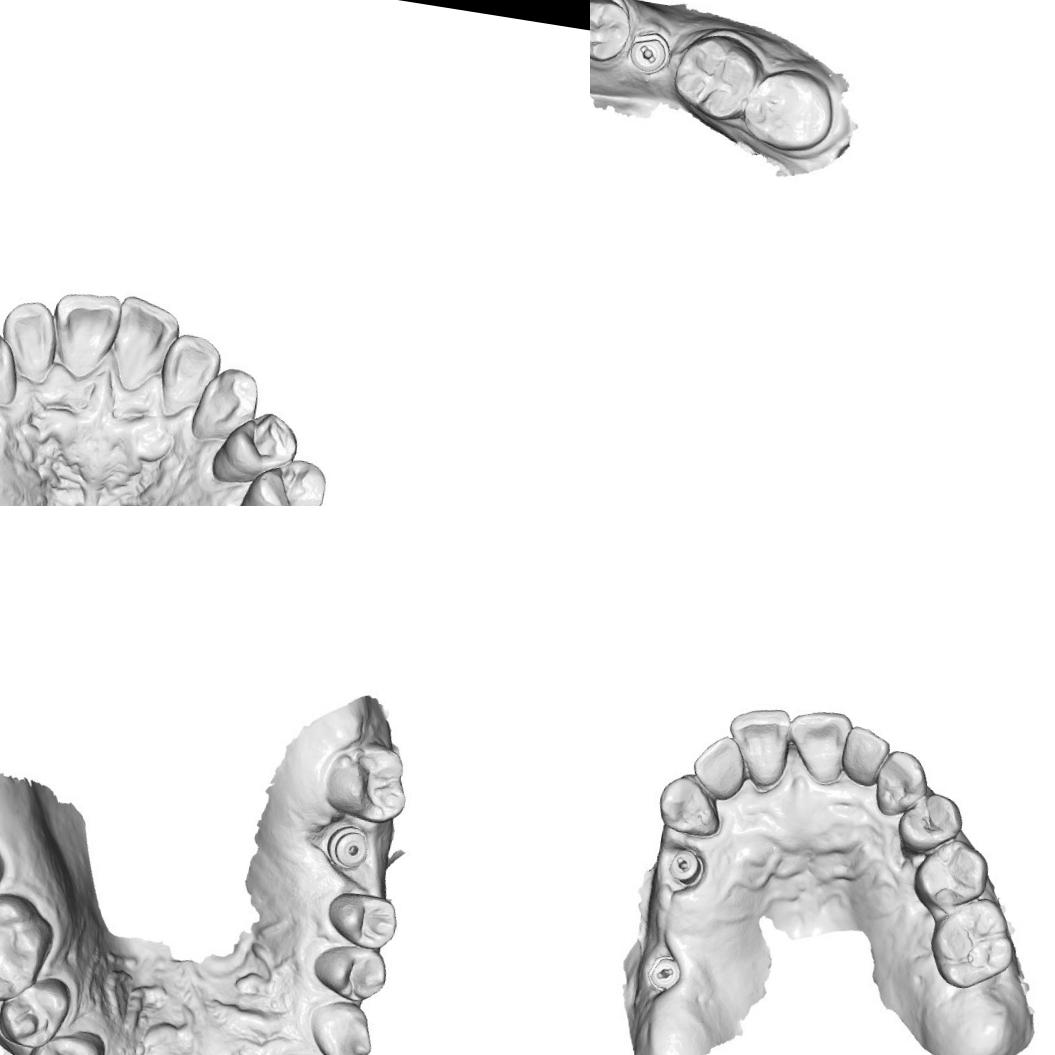canine: (190, 361, 264, 446), (652, 768, 724, 842), (300, 994, 380, 1055), (869, 746, 932, 820), (0, 323, 28, 411)
implant: (318, 822, 376, 883)
implant_minus: (626, 23, 678, 84), (641, 949, 687, 997), (663, 844, 707, 890)
incisor: (106, 294, 182, 393), (45, 286, 121, 383), (719, 700, 796, 790), (779, 704, 856, 788), (159, 327, 223, 424), (0, 299, 68, 390), (686, 732, 749, 804), (836, 724, 891, 790)
molar: (922, 888, 1024, 996), (316, 732, 420, 830), (744, 64, 838, 150), (672, 26, 758, 118), (906, 832, 994, 918), (0, 892, 57, 1013)
premolar: (204, 410, 302, 495), (0, 969, 77, 1055), (302, 938, 392, 1005), (321, 885, 407, 954), (229, 451, 329, 506), (892, 786, 967, 858), (590, 0, 639, 63), (24, 1022, 106, 1055)
